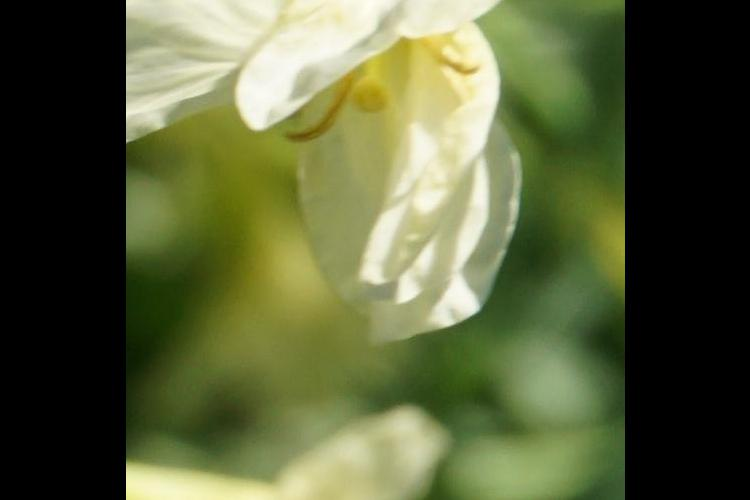white: (131, 1, 521, 323), (139, 421, 422, 500)
